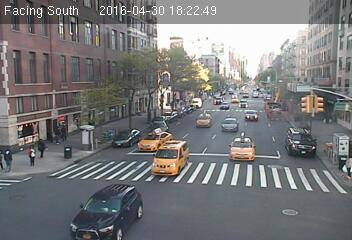neg: (314, 63, 335, 90), (294, 80, 310, 102), (139, 108, 154, 129), (271, 80, 286, 100), (234, 86, 246, 103), (186, 101, 197, 116)
pos: (3, 146, 21, 170), (22, 144, 38, 166), (45, 123, 61, 144), (36, 135, 51, 154), (59, 123, 72, 142)
